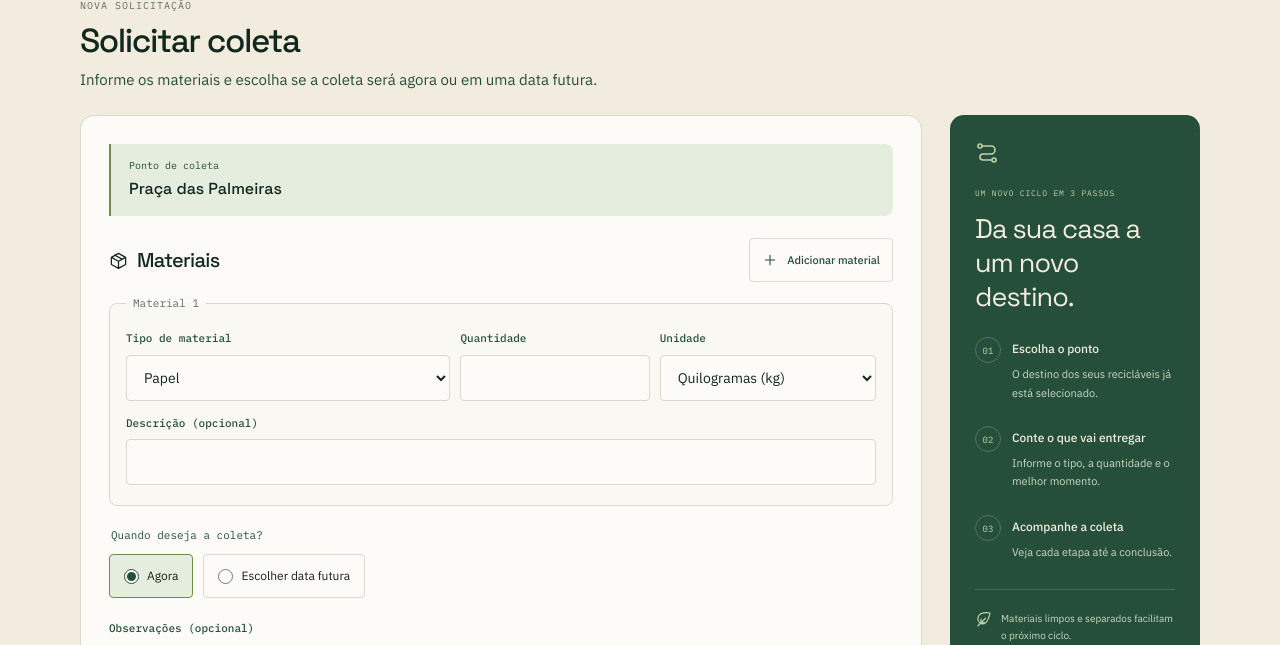
Test: SolicitarColeta › blocks invalid material quantities and missing schedule
Expected: the text "Praça das Palmeiras" is shown, [129, 178, 282, 199]
Click the radio button labelled "Escolher data futura": [226, 576] box [218, 569, 234, 584]
(page scrolled)
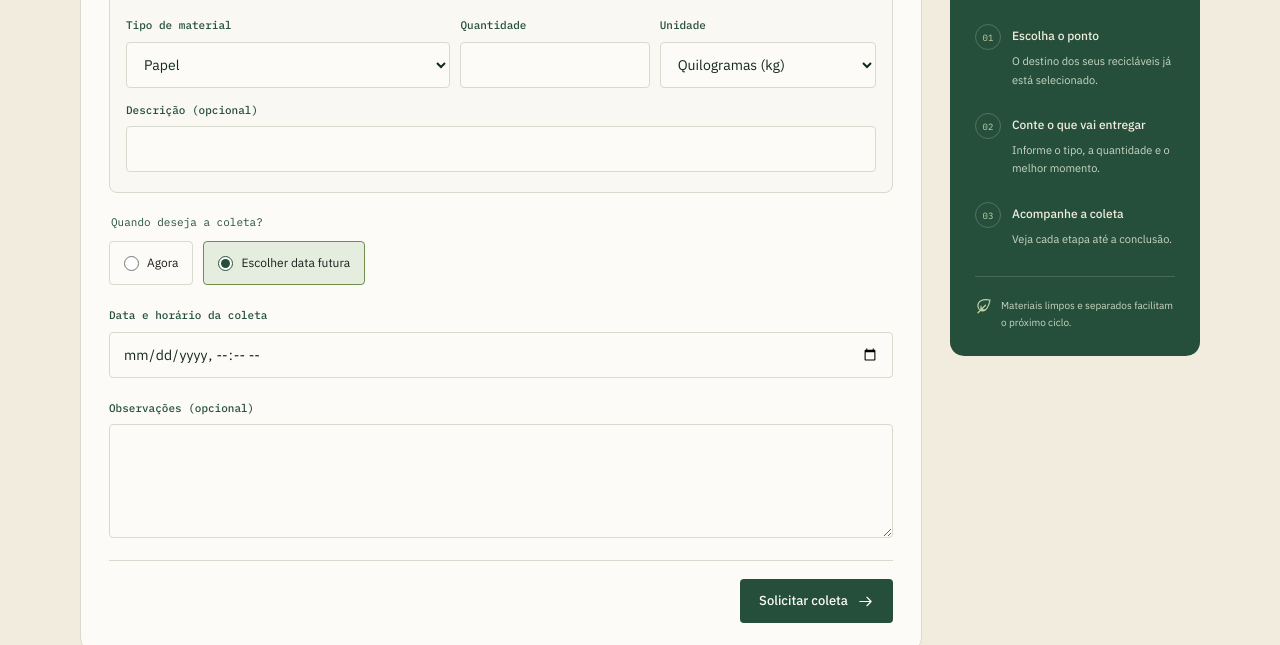
Click the button "Solicitar coleta": [817, 601] box [740, 579, 893, 623]
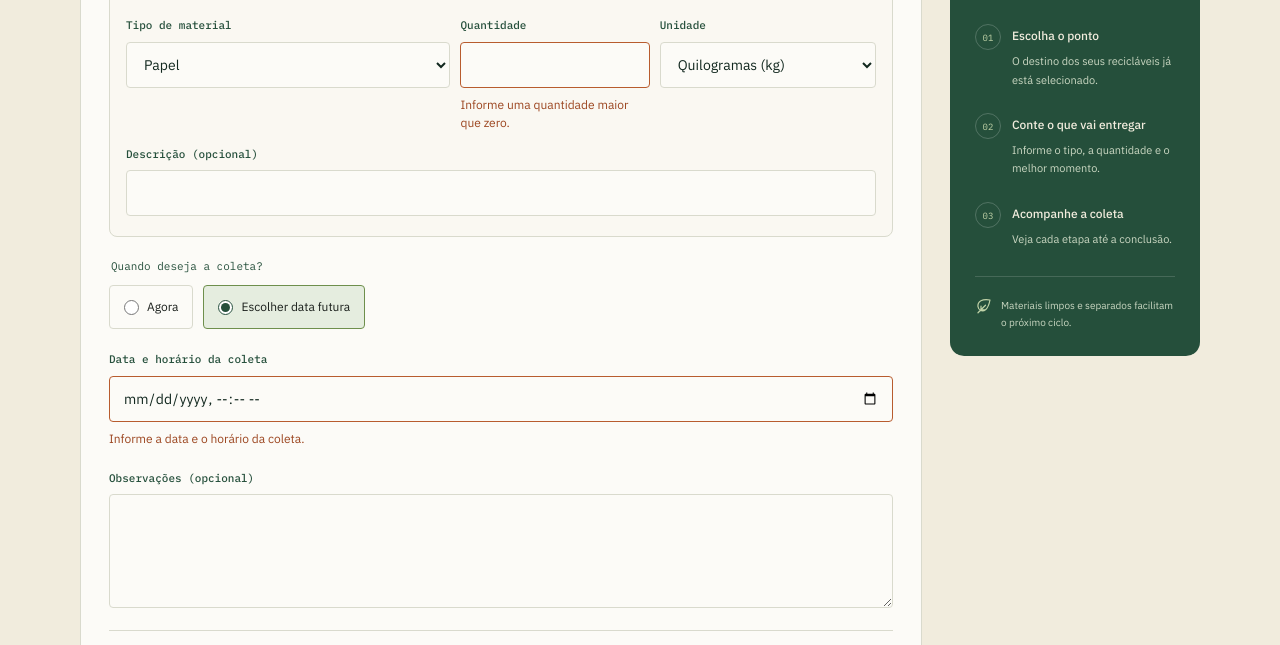
Expected: the text "Informe uma quantidade maior que zero." is shown, [460, 96, 650, 132]
Expected: the text "Informe a data e o horário da coleta." is shown, [109, 431, 304, 446]
